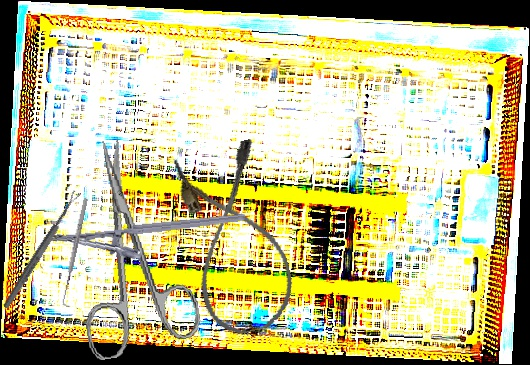Cannula: (169, 137, 302, 341)
Hook Surgical: (58, 196, 94, 309)
Iris Scissors: (57, 130, 205, 362)
Needle Holder: (47, 212, 249, 269)
Surgical Spoon: (1, 189, 82, 311)
